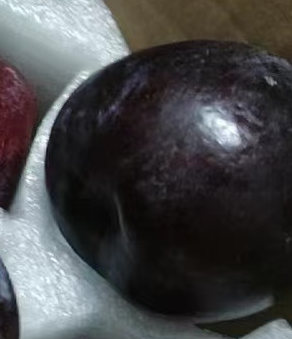plum_A: (43, 39, 292, 323)
